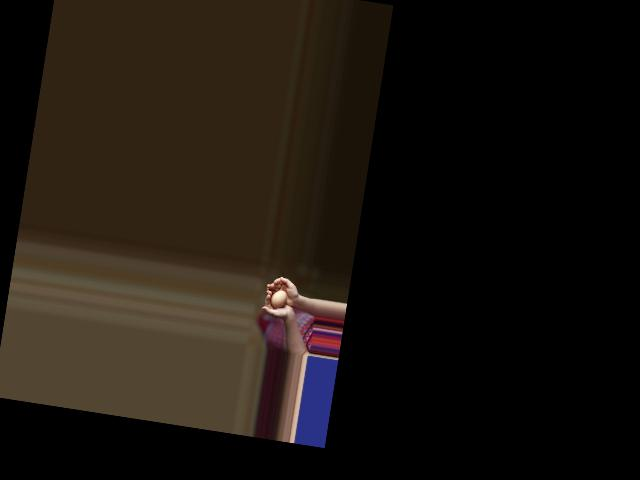egg: (269, 289, 287, 310)
